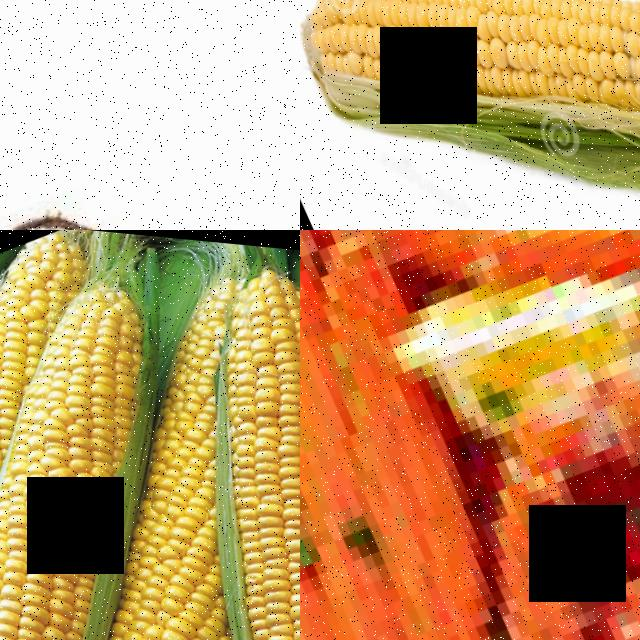corn: (300, 0, 640, 230), (0, 263, 200, 515), (44, 480, 300, 640), (172, 245, 300, 555), (0, 445, 173, 640), (102, 317, 268, 520), (0, 230, 129, 440)
crab: (300, 230, 582, 640)
